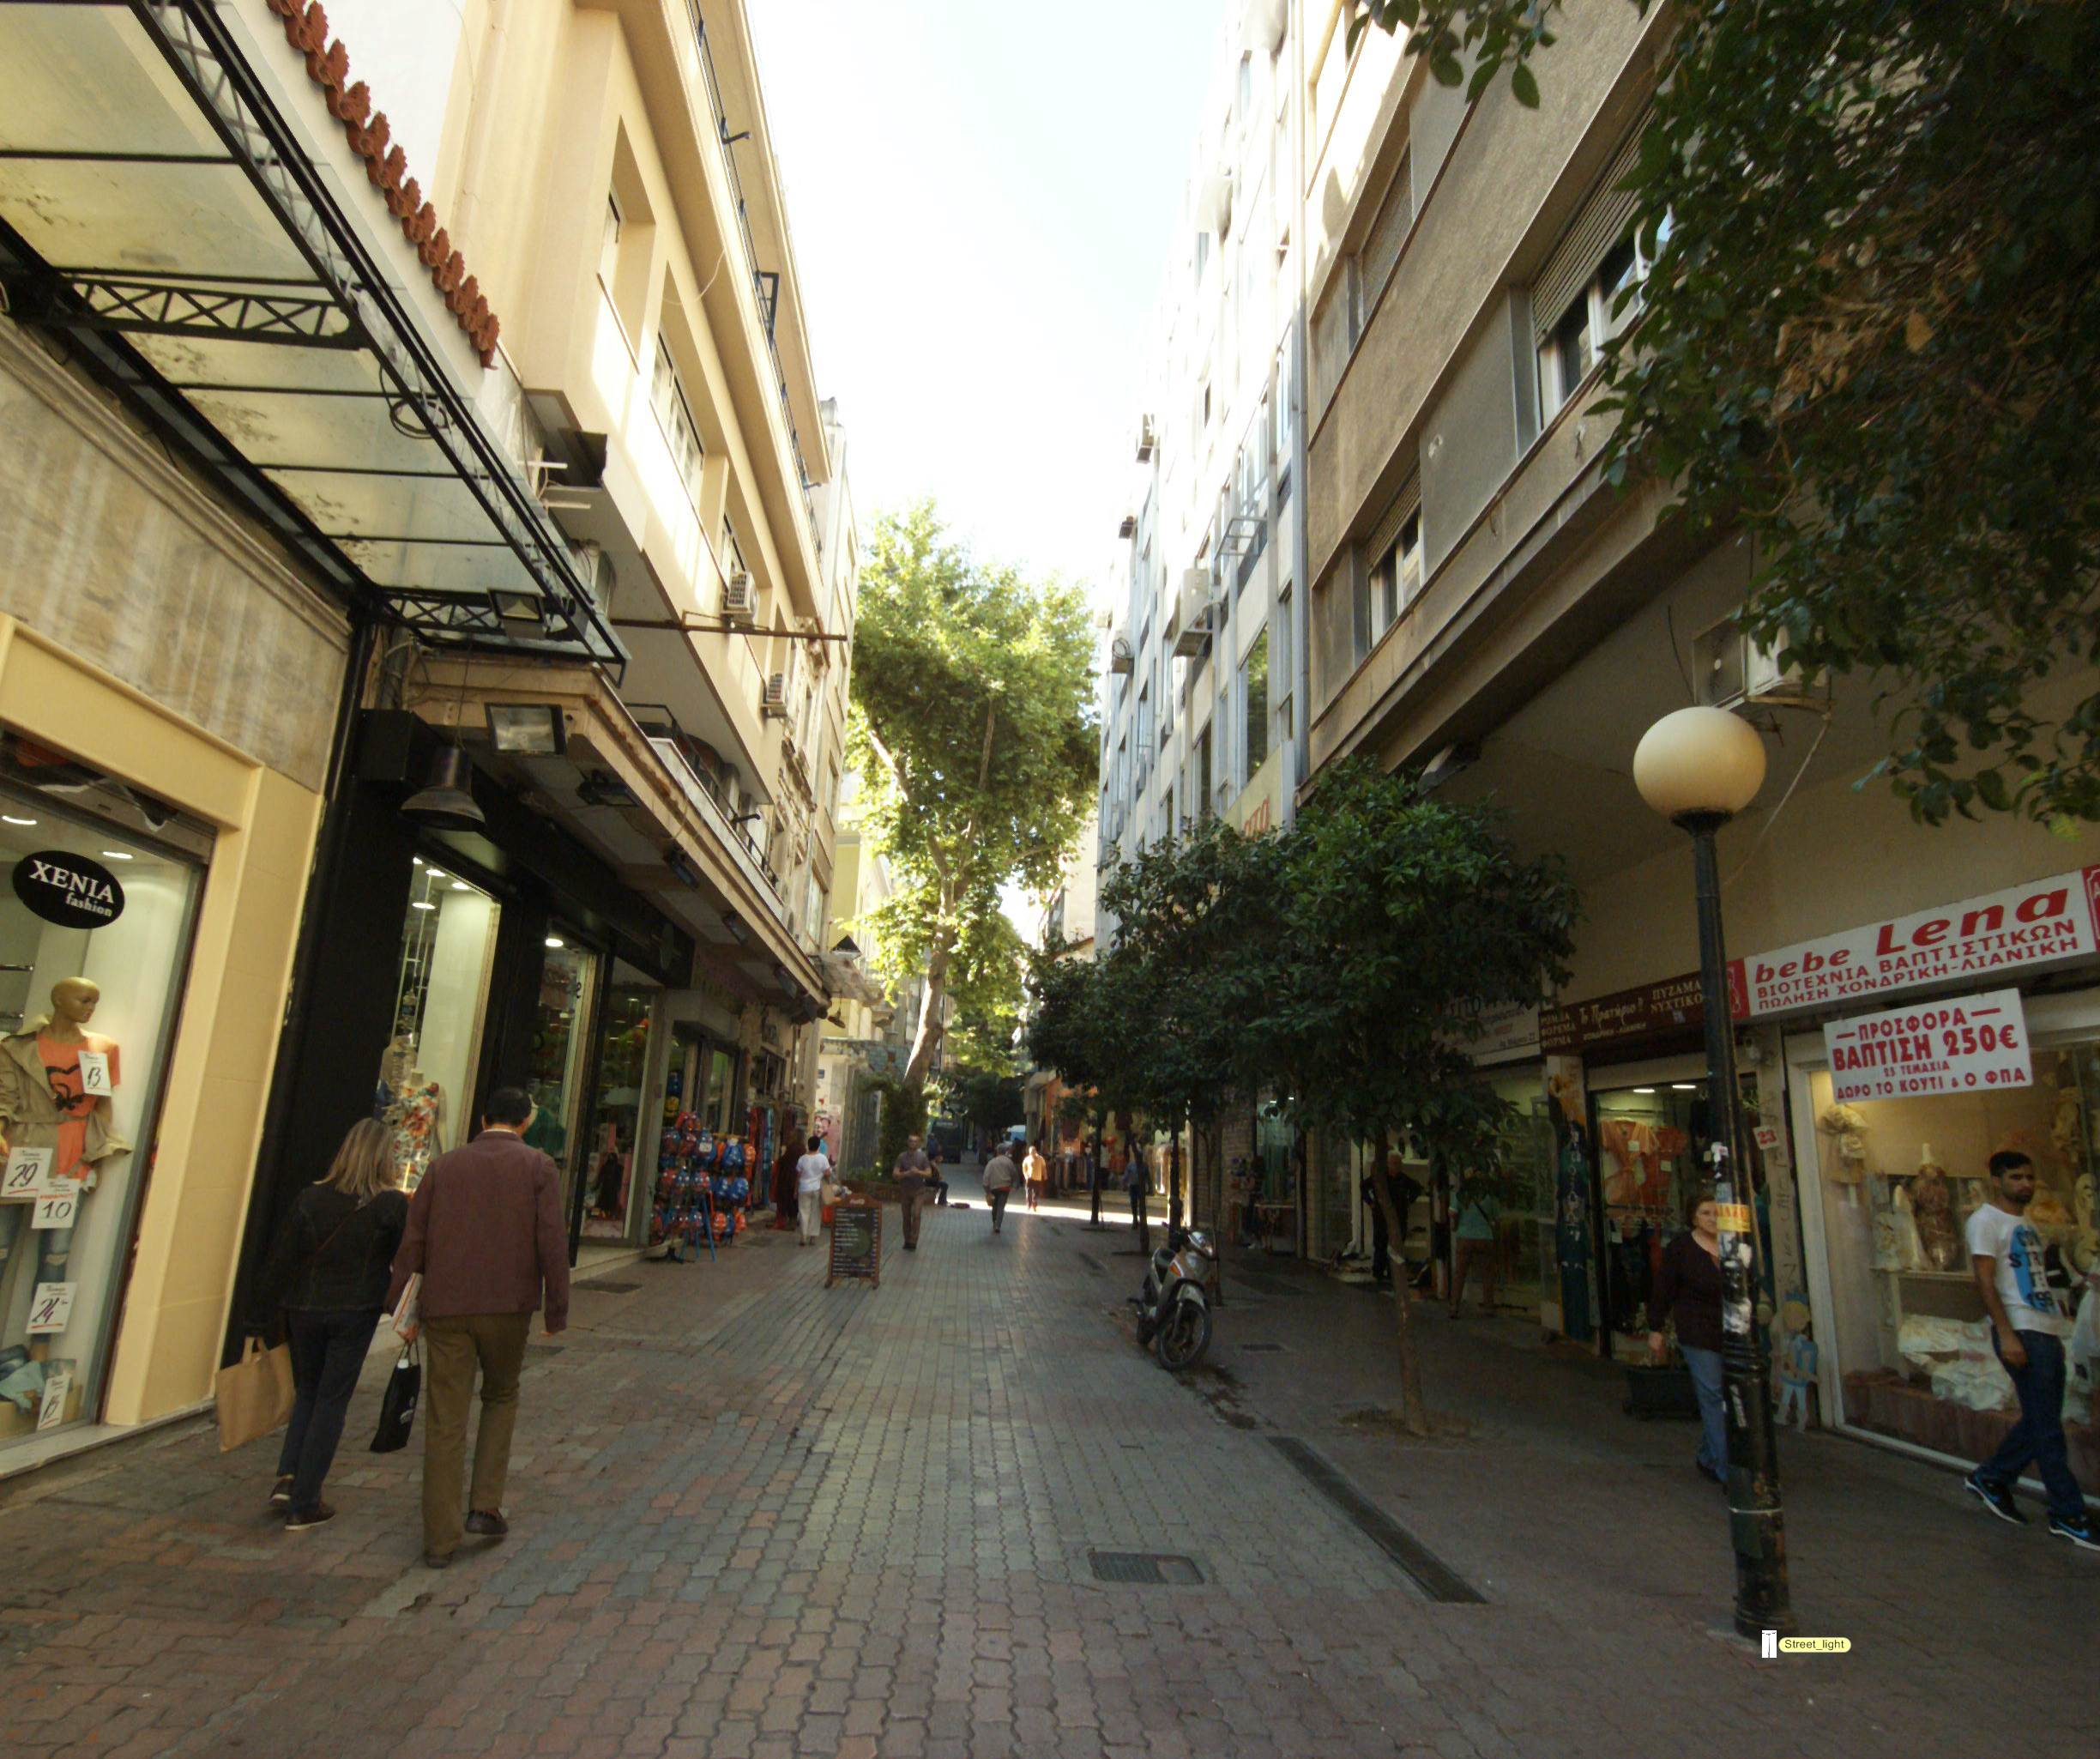tree: (849, 487, 1099, 1283)
